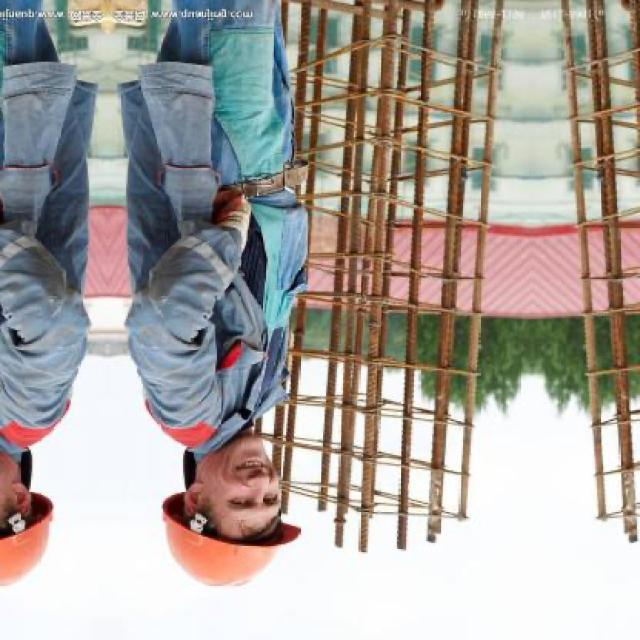con casco: (160, 357, 364, 591)
